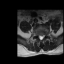CCS_normal: (40, 33, 42, 41)
LFS_normal: (43, 32, 45, 37)
LLS_normal: (42, 33, 43, 40)
RFS_normal: (36, 32, 38, 37)
RLS_normal: (38, 32, 40, 40)
